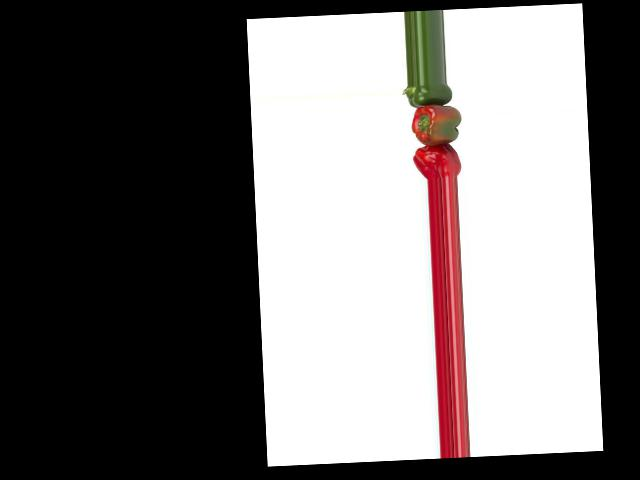bell_pepper: (408, 142, 464, 180)
